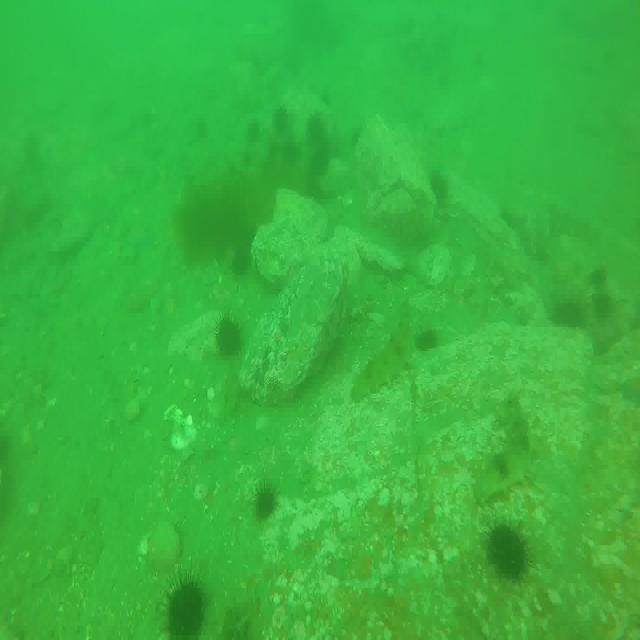echinus: (487, 520, 529, 584), (166, 576, 207, 640), (216, 316, 244, 360), (556, 299, 587, 335), (251, 487, 277, 520), (230, 242, 255, 276), (314, 141, 337, 177), (271, 103, 293, 138), (418, 326, 442, 358), (594, 292, 616, 321), (307, 113, 326, 145), (284, 139, 302, 165), (247, 121, 266, 145)
holothurian: (474, 399, 534, 504), (353, 316, 420, 401)
